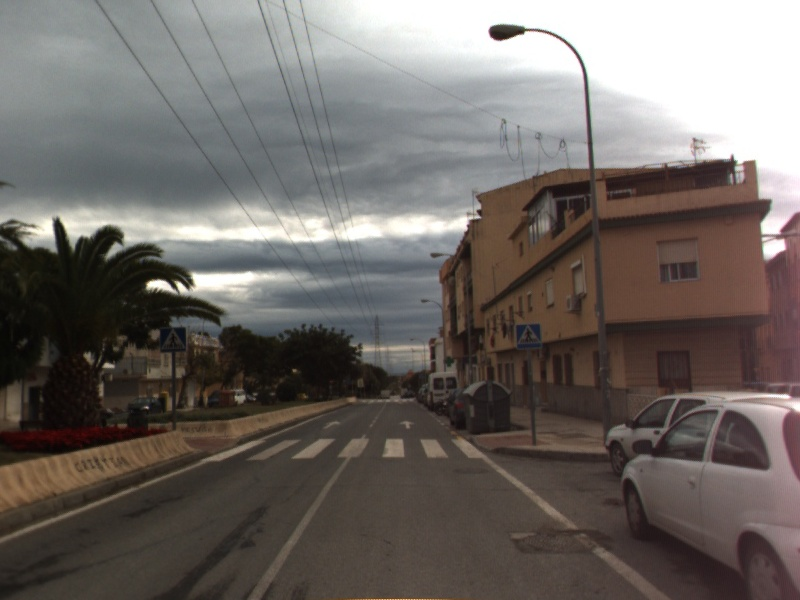STRAIGHT: (320, 418, 344, 431), (397, 418, 417, 430)
